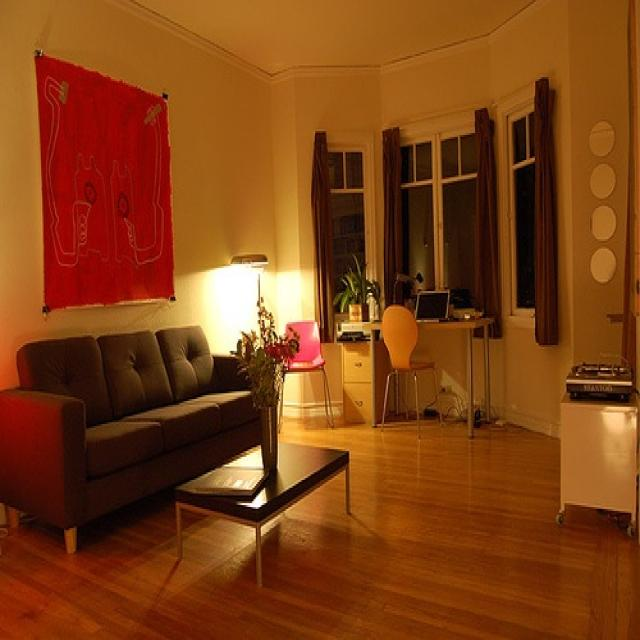chair: (376, 303, 443, 428), (280, 322, 336, 424)
pottedplant: (336, 260, 386, 318)
sofa: (0, 324, 273, 553)
